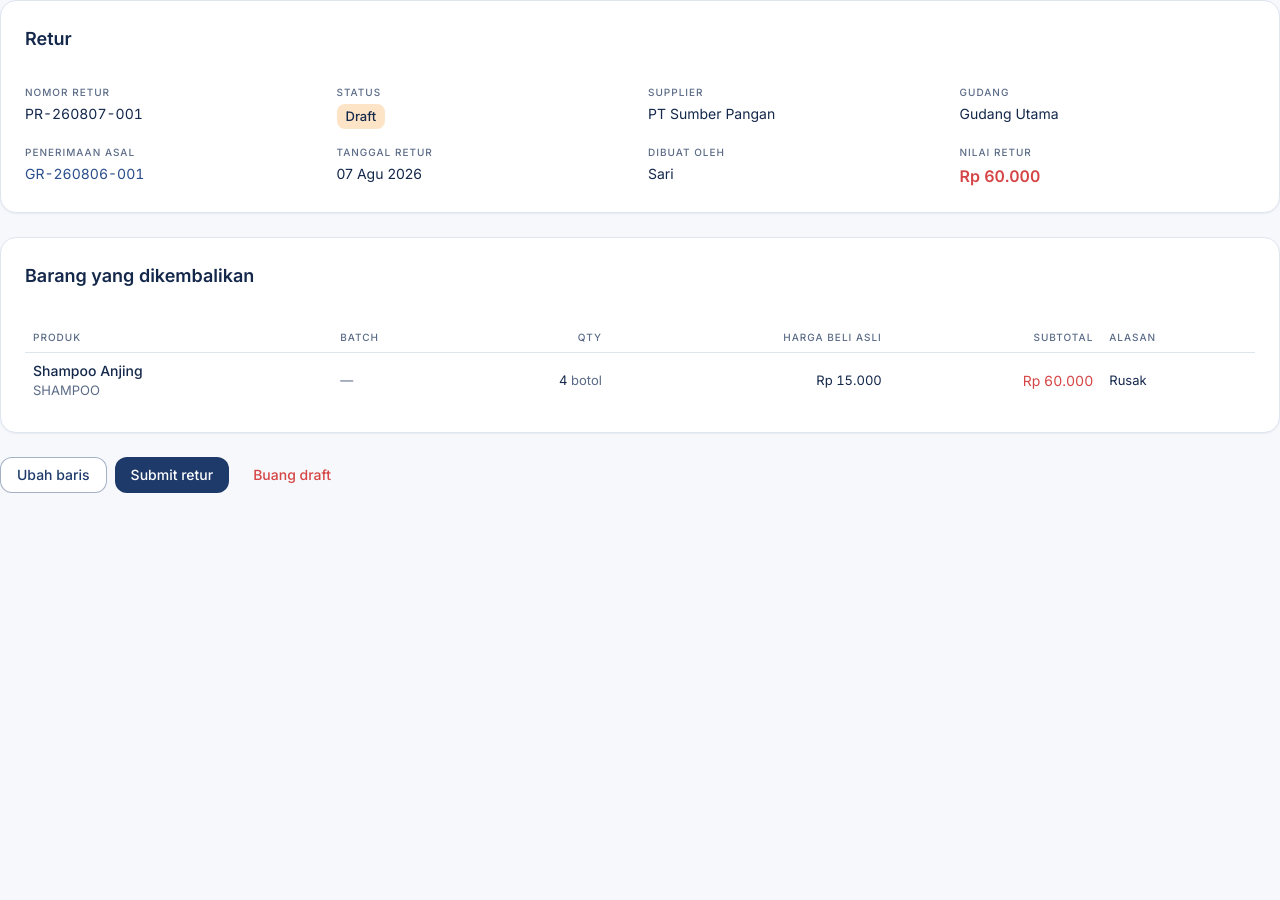
Test: PurchaseReturnDetail › previews before opening the submit confirmation
Step 1. Click the button "Submit retur" → (172, 475), box [115,457,229,493]
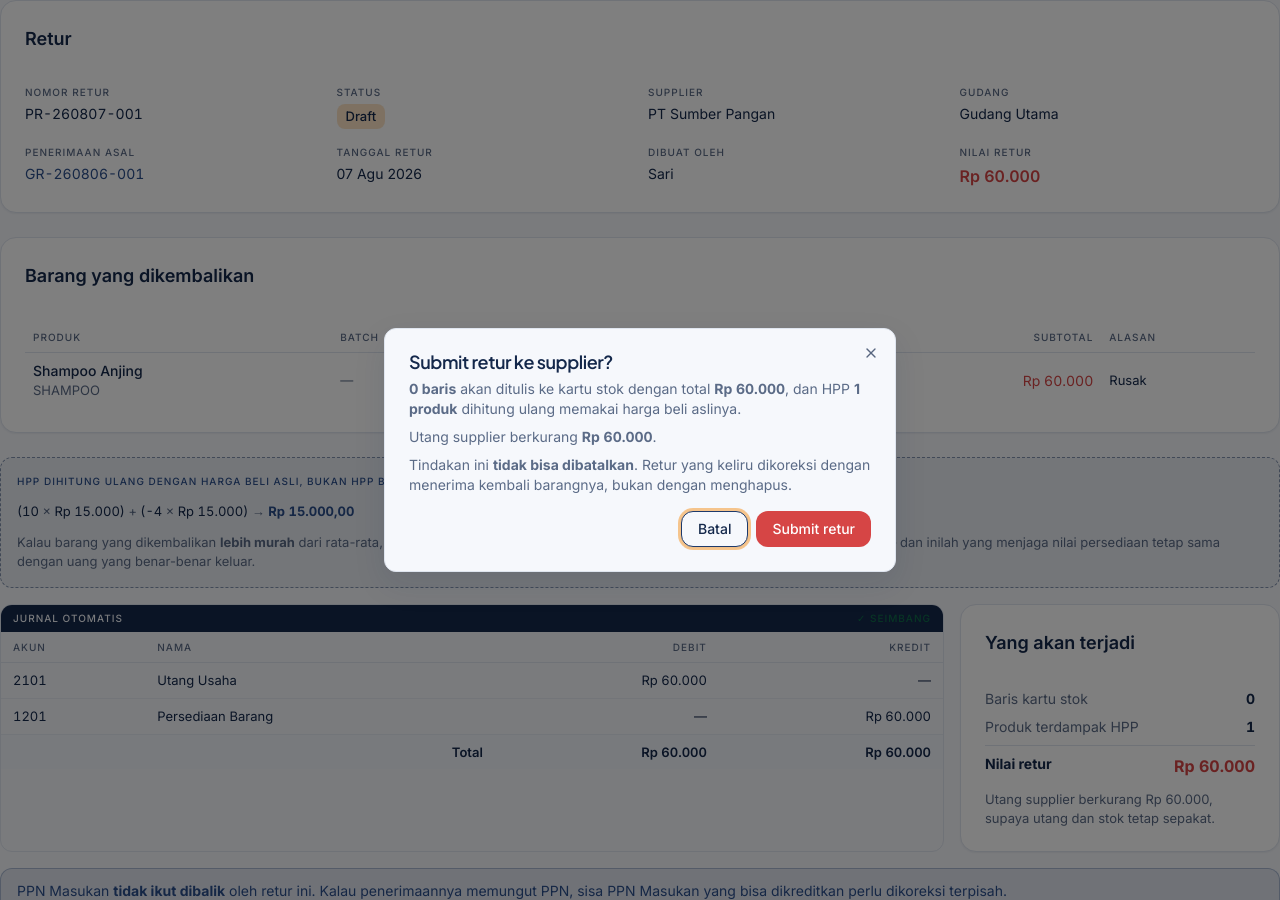
expect the button "Submit retur" is shown: met, box [756,511,871,547]
